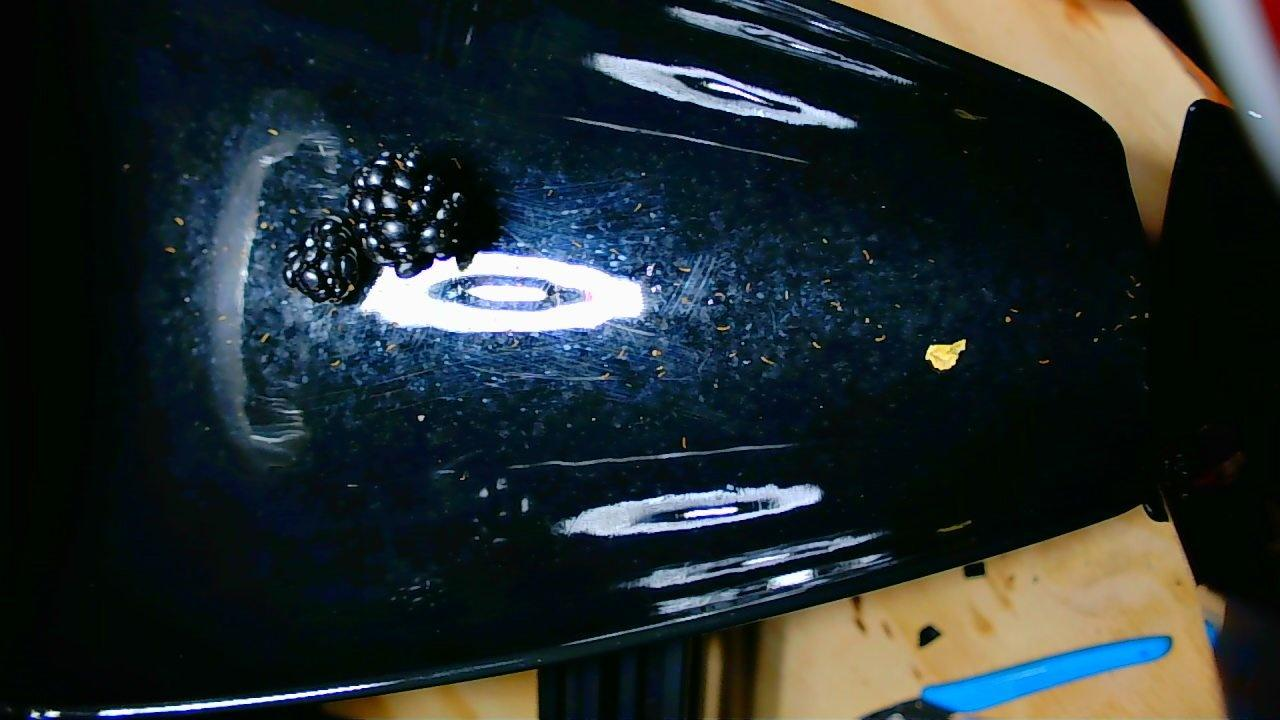berry: (346, 145, 483, 277), (285, 216, 360, 302)
